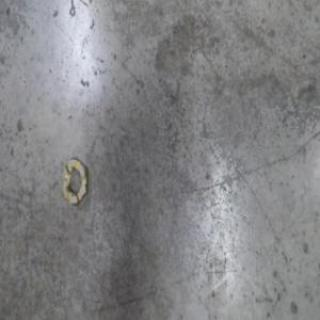Nuttrack_idkeyframe: (58, 156, 88, 207)
